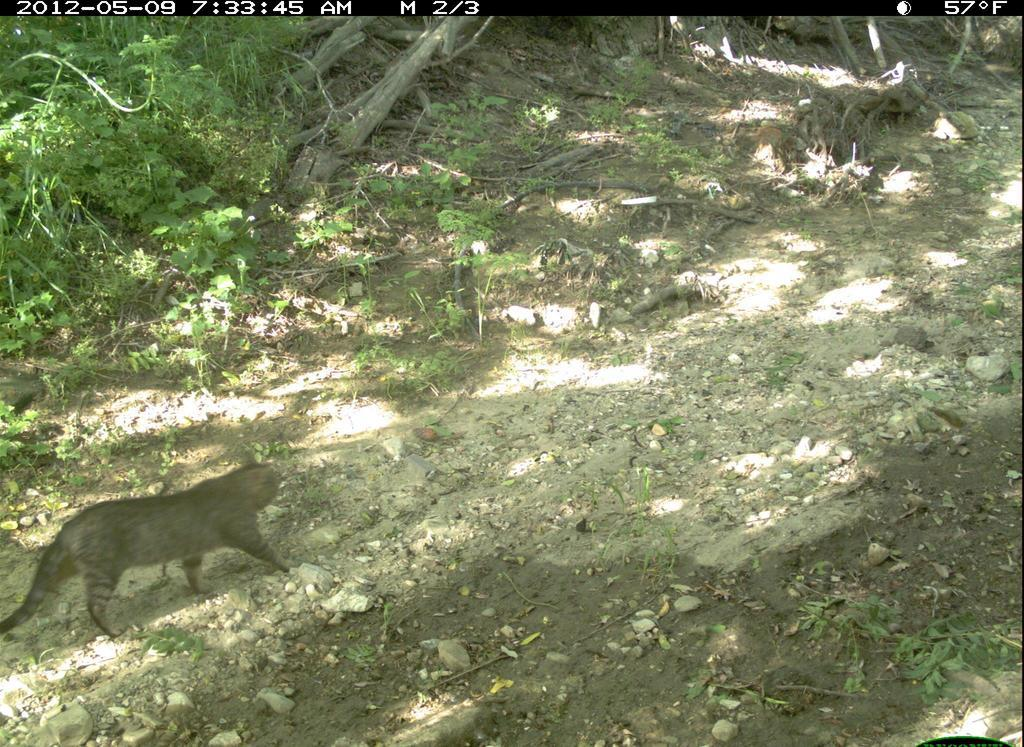cat: (8, 437, 327, 658)
